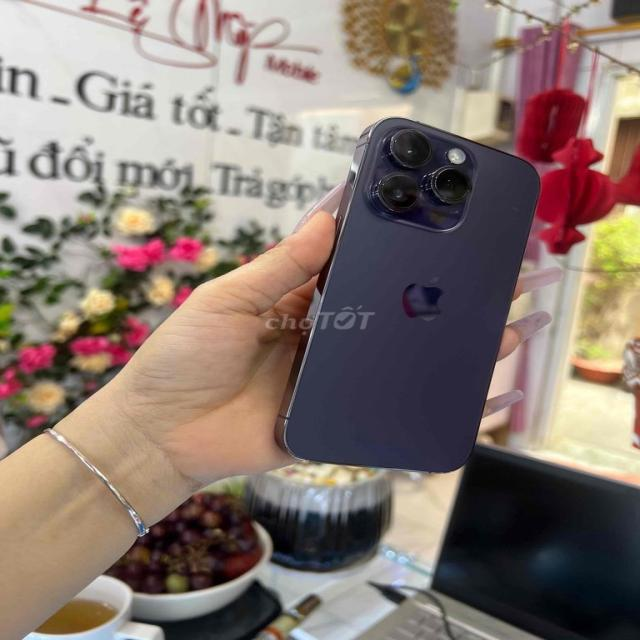gen_14: (269, 112, 532, 476)
